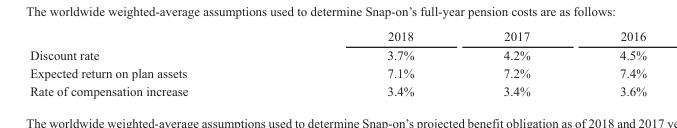table: (29, 28, 646, 97)
table column: (29, 28, 286, 97), (286, 28, 458, 97), (458, 28, 574, 97), (574, 28, 646, 97)
table column header: (29, 28, 646, 45)
table row: (29, 45, 646, 63), (29, 63, 646, 81), (29, 28, 646, 45), (29, 81, 646, 97)
